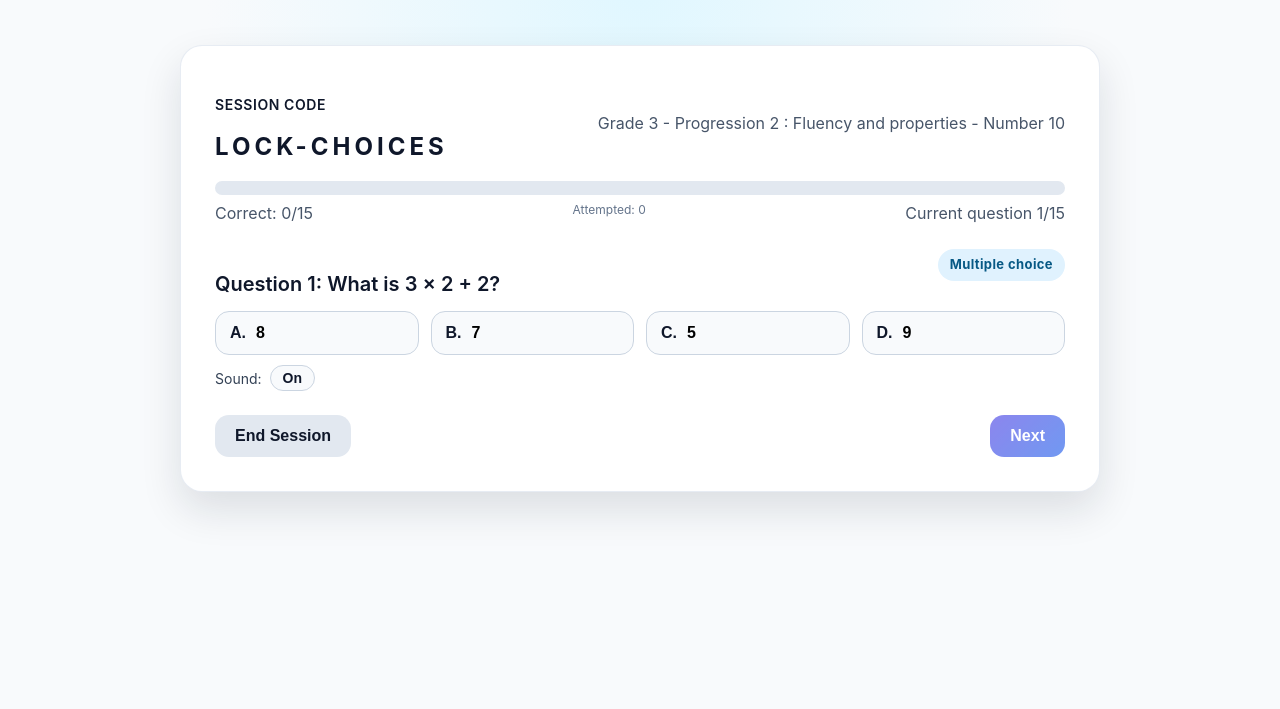
Scenario: Quiz scoring and progress updates › locks choices after a wrong answer but keeps Next enabled
The image size is (1280, 709).
Click the button "B. 7": click(532, 333) [430,311,634,355]
(page scrolled)
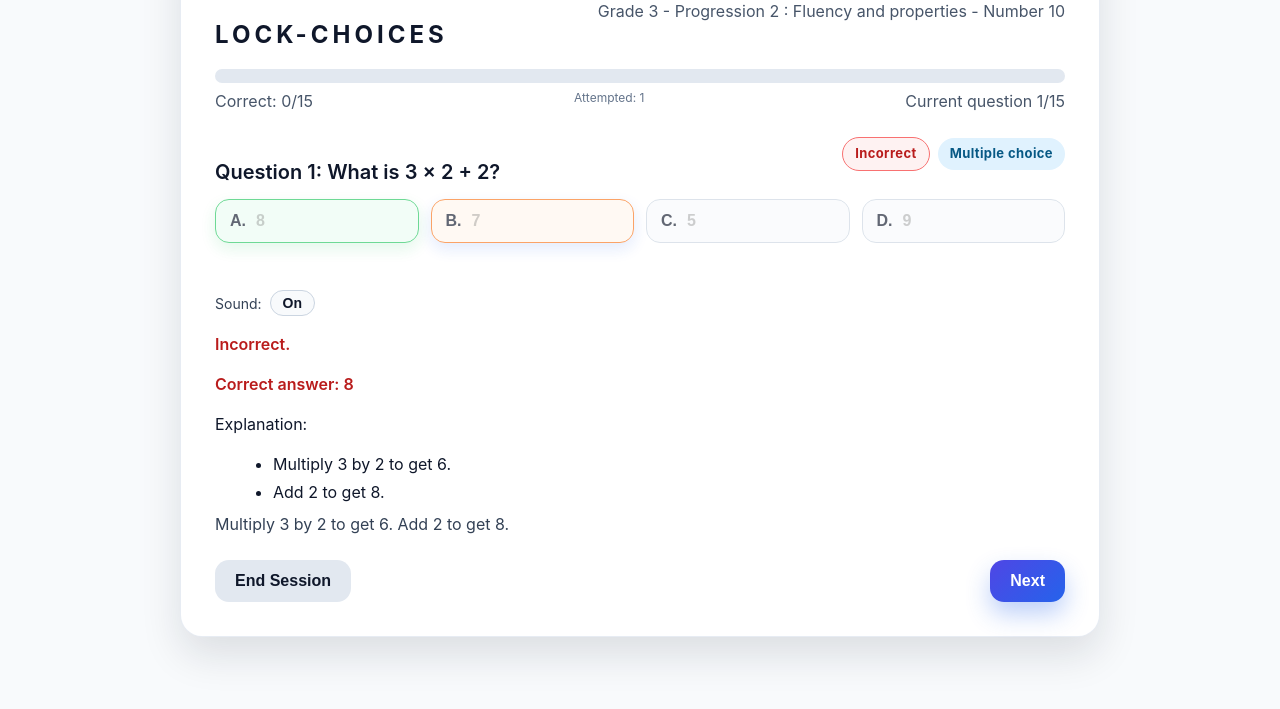
Check: the button with test id "option-0" is disabled, box [215,199,418,243]
Check: the button "Next" is enabled, box [990,560,1065,602]
